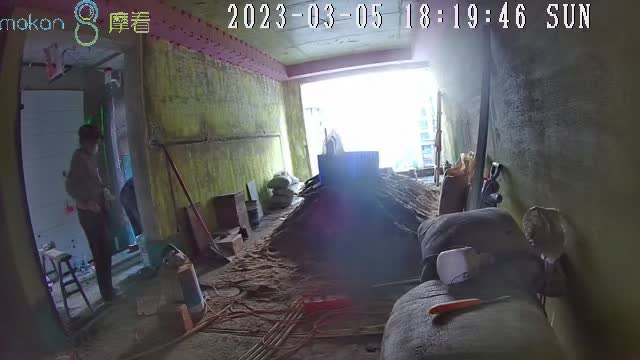people: (65, 125, 129, 302)
window: (300, 63, 430, 172)
